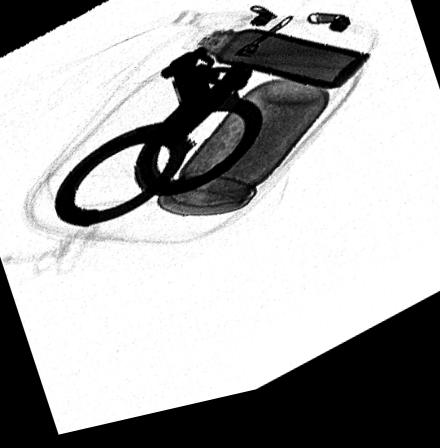HandCuffs: (55, 56, 264, 231)
